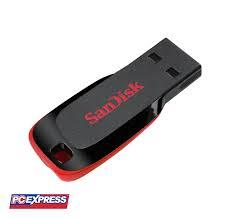Flash-drive: (20, 27, 213, 175)
